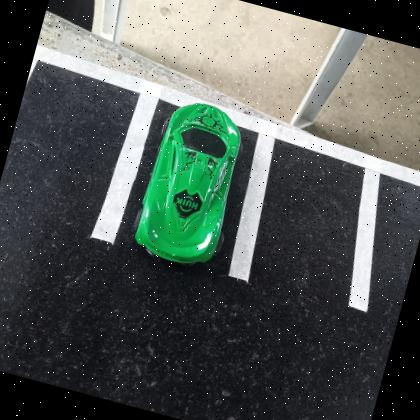Car: (134, 103, 242, 266)
